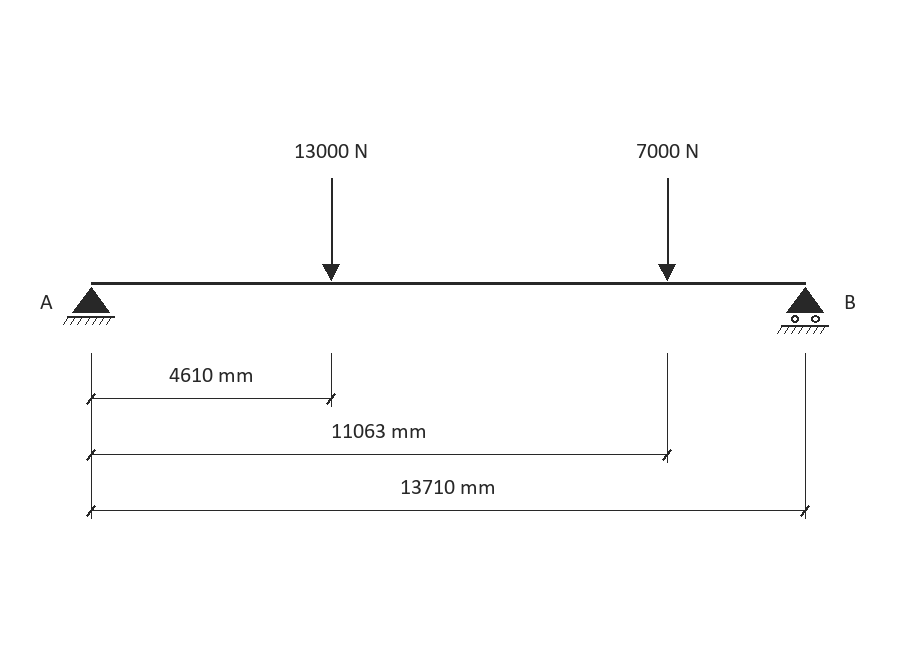pin_support: (63, 287, 115, 325)
point_load: (322, 178, 340, 281), (658, 178, 676, 281)
roller_support: (777, 287, 829, 334)
